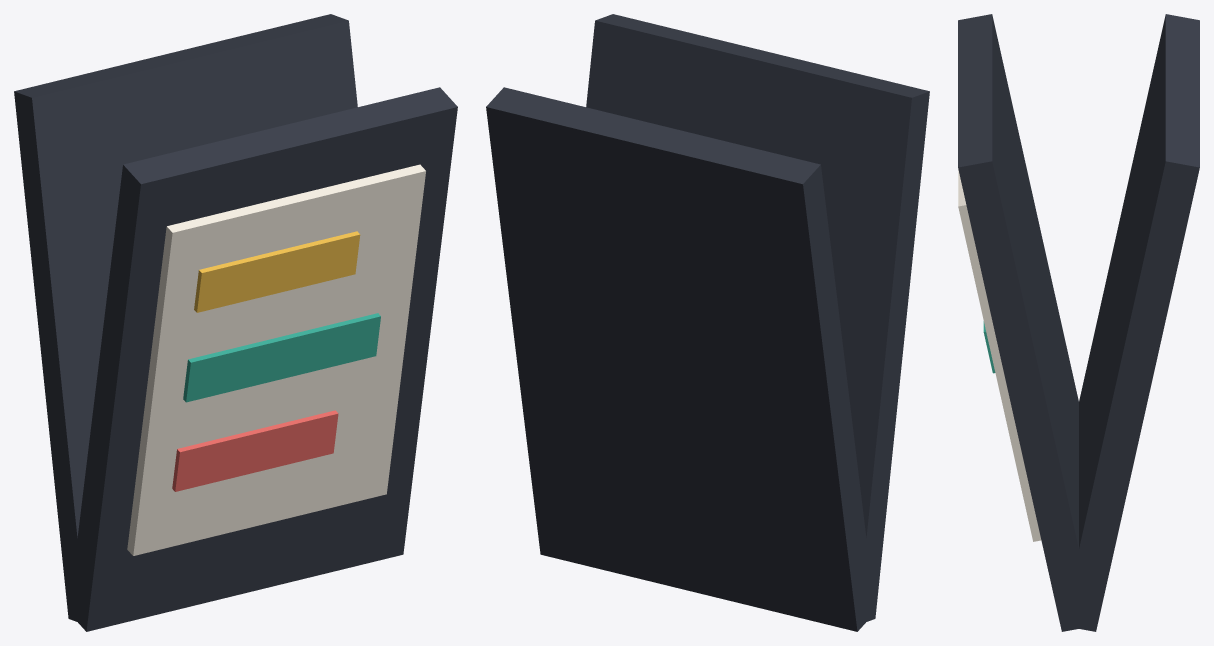
File: billboard_standing.glb
3 views of the same model, side by side, from view 1: azimuth 30°, elevation 25°; view 2: azimuth 150°, elevation 25°; view 3: azimuth 270°, elevation 25° (orthographic). The views are drawn at different scales.
Visible parts, largest first — view 1: billboard_standing; view 2: billboard_standing; view 3: billboard_standing.
Part boxes in pixels (box(x1,y1,x2,y2)): billboard_standing: box(14, 14, 457, 631); billboard_standing: box(486, 14, 929, 631); billboard_standing: box(958, 14, 1199, 631).
Size of the model in its own units: 0.06 by 0.0894 by 0.0416.
